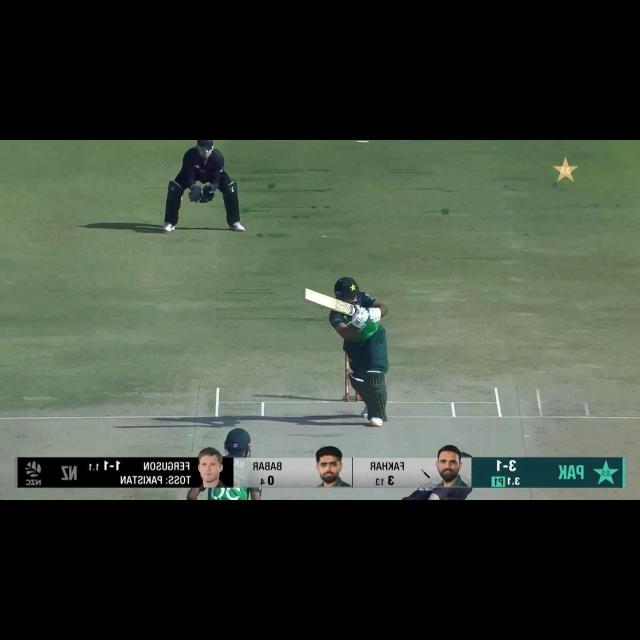bat: (303, 289, 355, 316)
toe: (304, 288, 311, 300)
